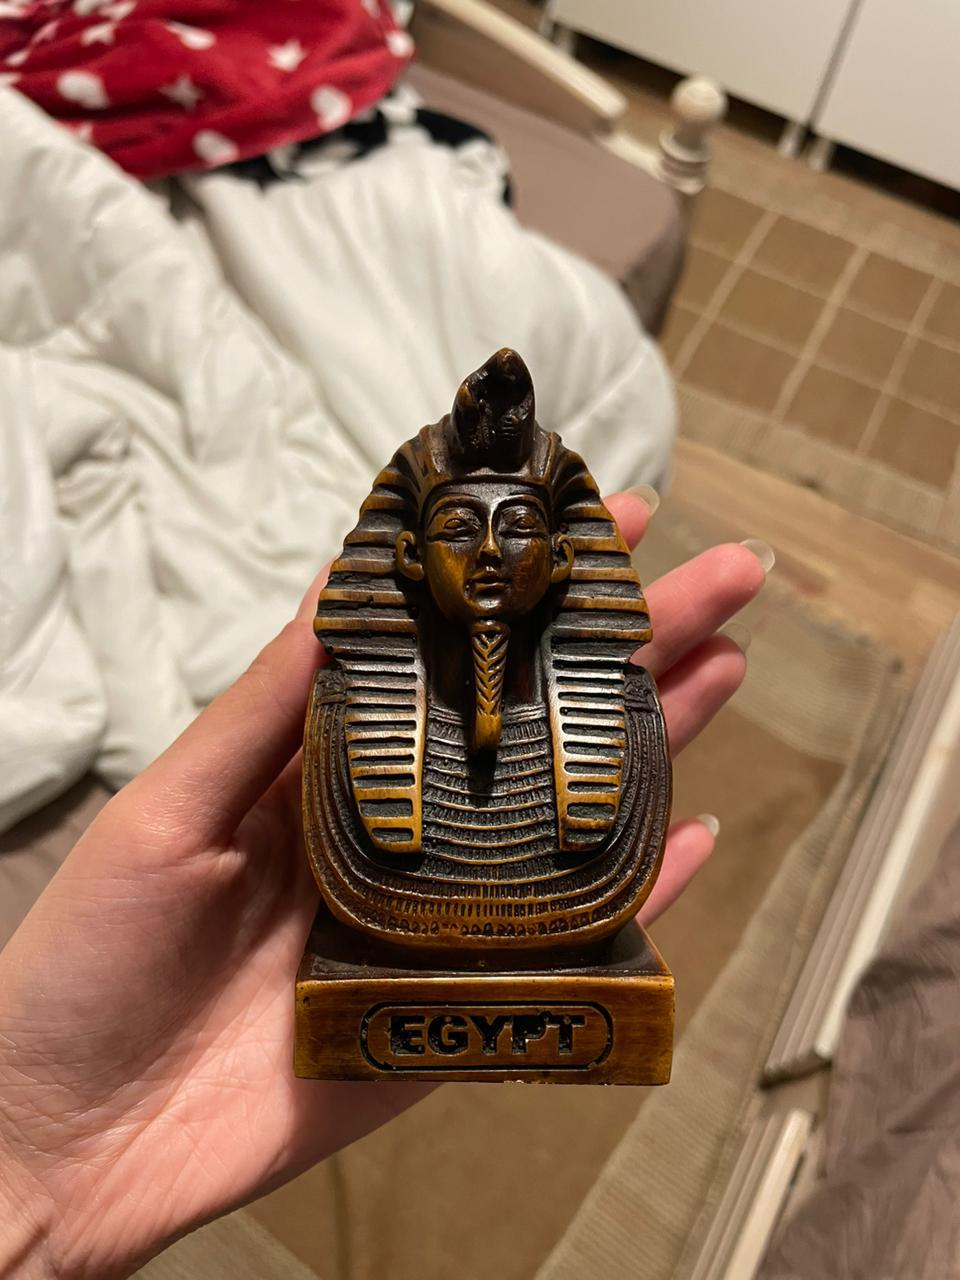Tut: (286, 343, 679, 1092)
